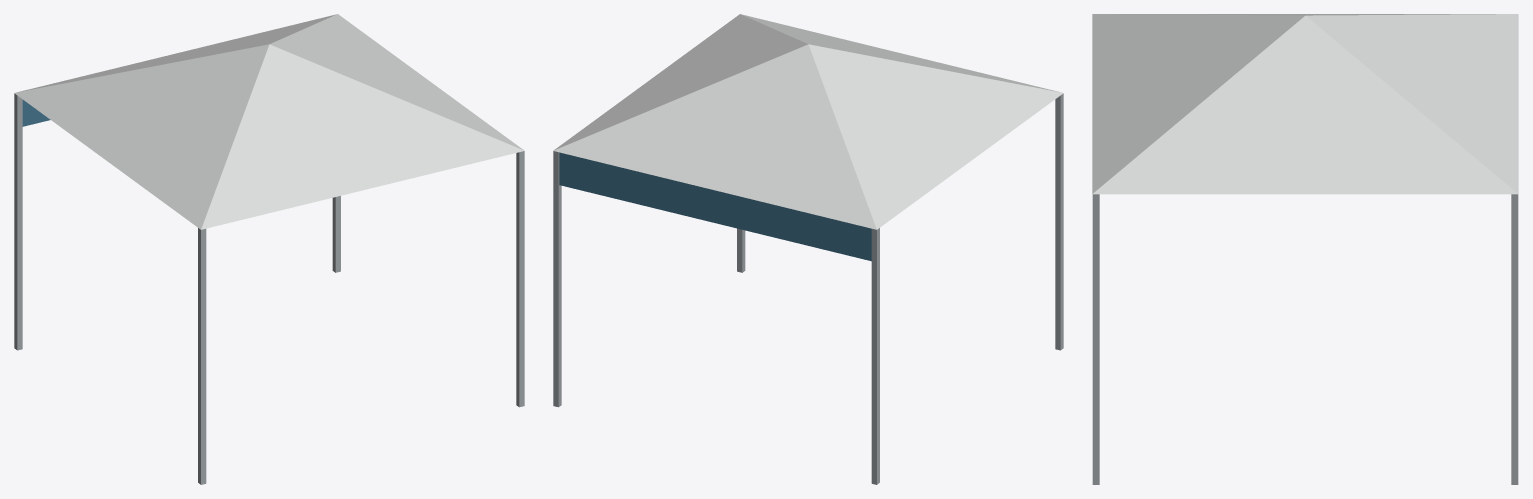
Rendered from powerboat-racing-and-launch-ramp-race-committee-tent-7d2646e0__22286.glb.
3 views of the same model, side by side, from view 1: azimuth 30°, elevation 25°; view 2: azimuth 150°, elevation 25°; view 3: azimuth 270°, elevation 25° (orthographic). The views are drawn at different scales.
Parts seen in each view (by area): view 1: race-committee-tent; view 2: race-committee-tent; view 3: race-committee-tent.
Part boxes in pixels (<box>): race-committee-tent: <box>14,14,524,484</box>; race-committee-tent: <box>553,14,1063,484</box>; race-committee-tent: <box>1092,14,1518,484</box>.
Bounding box in the file's own units: 3.05 × 3 × 3.05.
